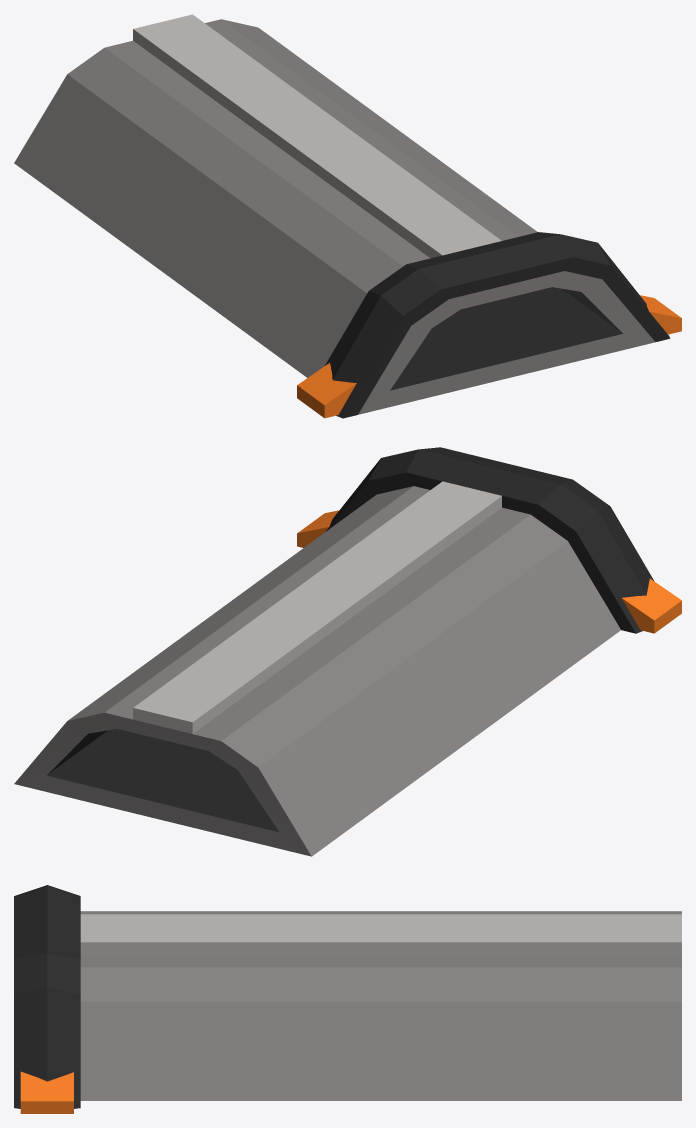
The model's file is scifi_scifi-vent-long.fbx.
3 renders of one model, top to bottom at view 1: azimuth 30°, elevation 25°; view 2: azimuth 150°, elevation 25°; view 3: azimuth 270°, elevation 25°, orthographic. The views are drawn at different scales.
Visible parts, largest first — view 1: scifi_scifi_vent_long; view 2: scifi_scifi_vent_long; view 3: scifi_scifi_vent_long.
Boxes of the visible parts, <box> form: scifi_scifi_vent_long: <box>14,14,681,418</box>; scifi_scifi_vent_long: <box>14,447,681,856</box>; scifi_scifi_vent_long: <box>14,885,681,1113</box>.
Bounding box in the file's own units: 120 × 36.71 × 200.
